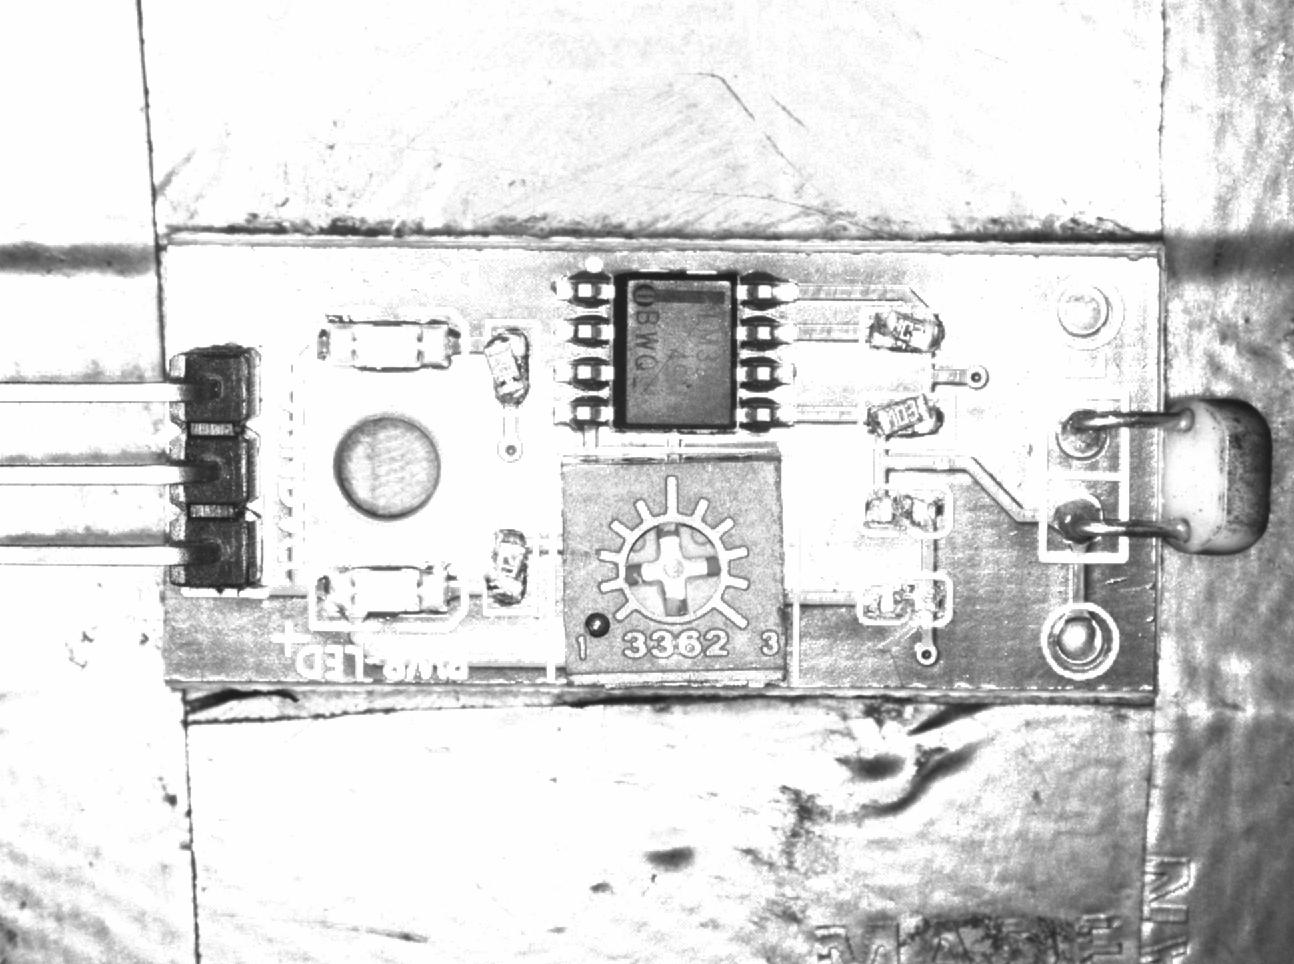lifted: (862, 393, 955, 443), (484, 322, 535, 410), (485, 521, 532, 614), (864, 307, 942, 355)
miss: (859, 484, 949, 533), (863, 572, 949, 621)
